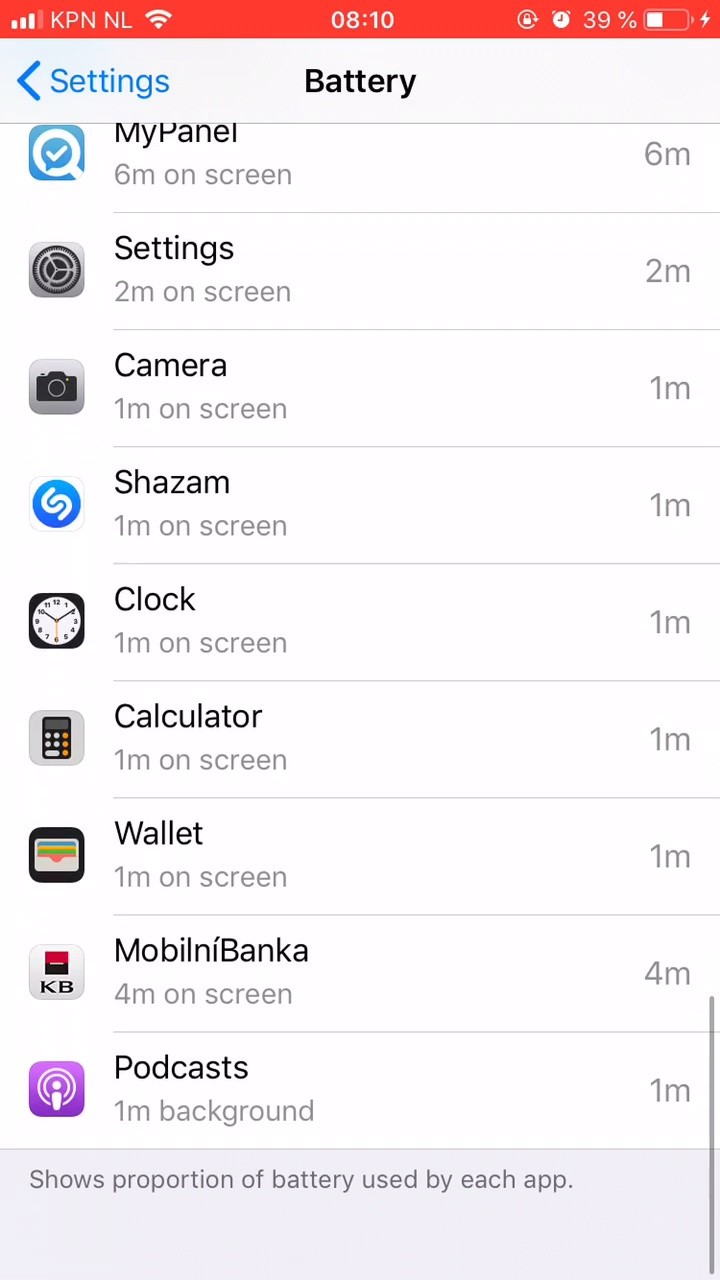app: (24, 222, 705, 317), (23, 331, 704, 426), (20, 457, 701, 552), (27, 567, 708, 662), (18, 688, 699, 783), (20, 800, 701, 895), (18, 928, 699, 1023), (21, 1046, 702, 1141)
